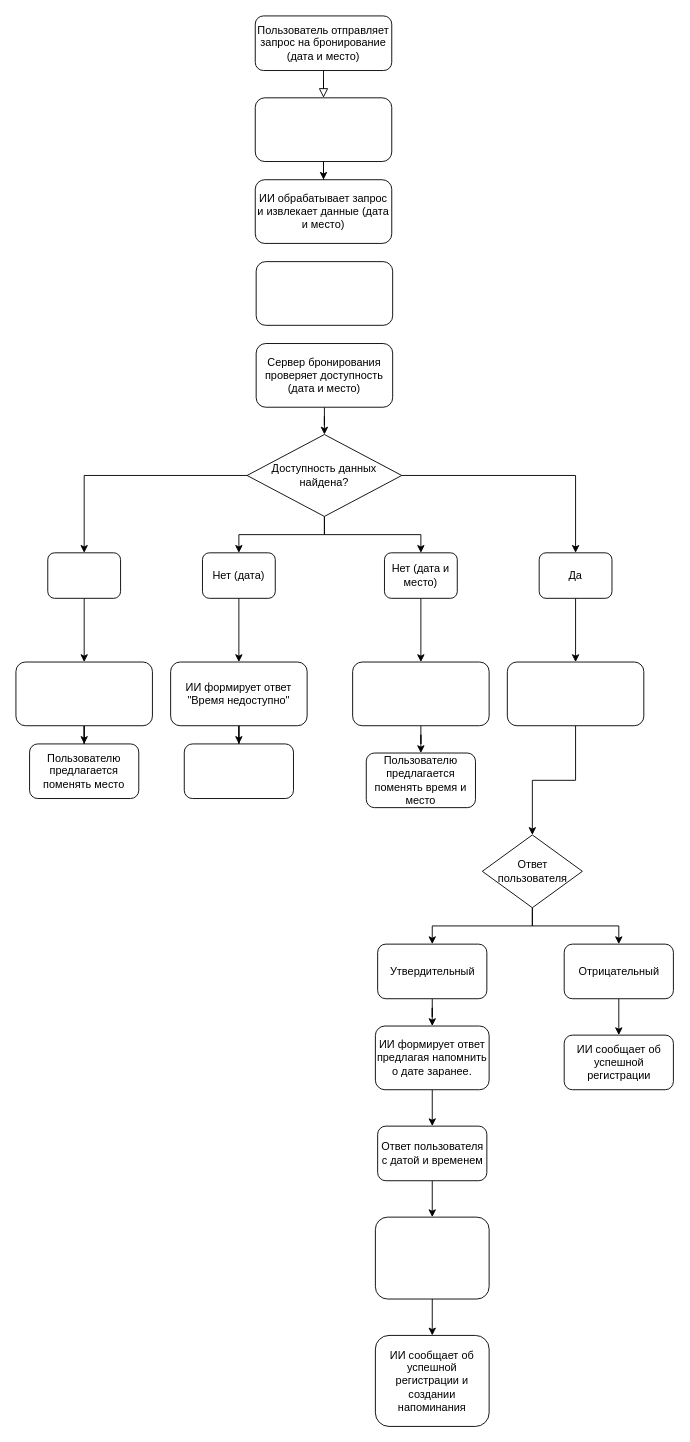
The diagram is 690 pixels wide and 1442 high, and some of its shapes have lost their labels. The shapes that lost their labels are listed below. From the top down, each one's centre as x and y in pixels, then its label:
point (323, 129): Клиентское приложение пересылает запрос к ИИ
point (324, 293): ИИ отправляет запрос на сервер бронирования (дата и место)
point (84, 575): Нет (место)
point (83, 693): ИИ формирует ответ "Место недоступно"
point (420, 693): ИИ формирует ответ "Нет свободных мест"
point (575, 693): ИИ формирует положительный ответ и предлагает записаться.
point (238, 771): Пользователю предлагается поменять время
point (431, 1257): ИИ извлекает дату и время из ответа пользователя и создает напоминание
